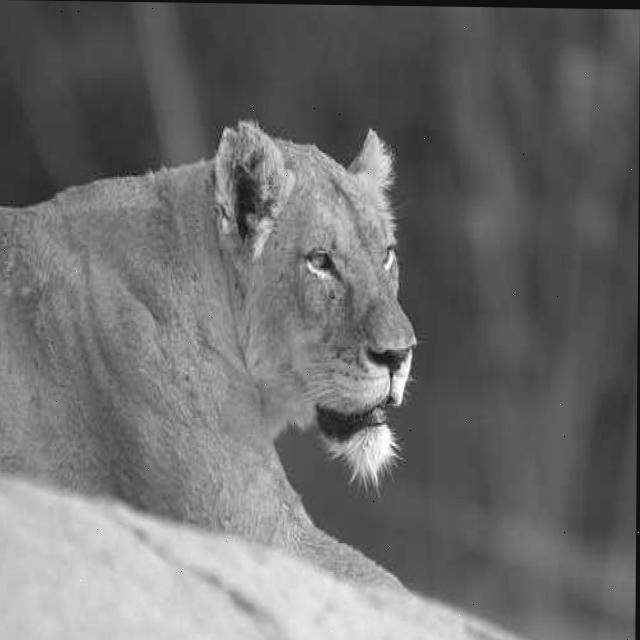Lion: (207, 106, 440, 515)
